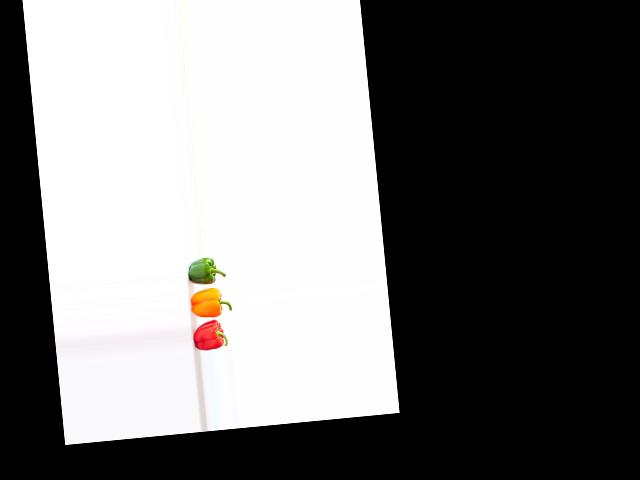bell_pepper: (192, 317, 235, 353)
